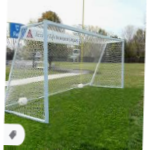goals: (8, 20, 127, 121)
